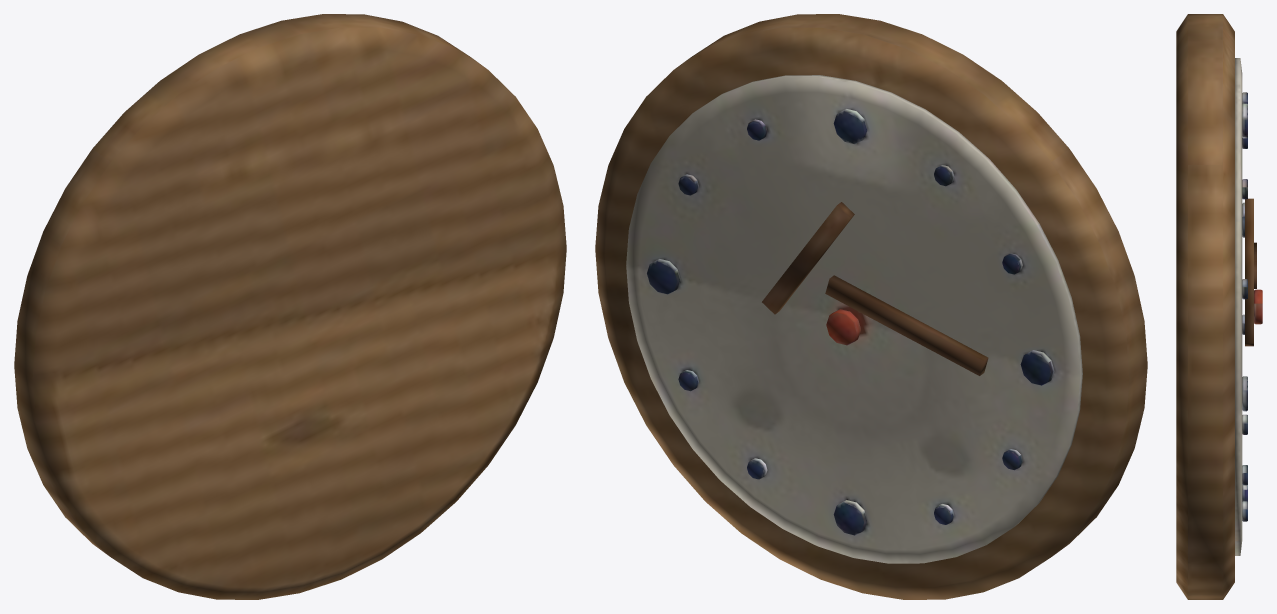
File: wall_clock.glb
3 views of the same model, side by side, from view 1: azimuth 30°, elevation 25°; view 2: azimuth 150°, elevation 25°; view 3: azimuth 270°, elevation 25° (orthographic). The views are drawn at different scales.
Visible parts, largest first — view 1: prop_wall_clock_wood; view 2: prop_wall_clock_felt, prop_wall_clock_wood; view 3: prop_wall_clock_wood, prop_wall_clock_felt.
Boxes of the visible parts, left/top/right/bottom form: prop_wall_clock_wood: left=14, top=14, right=566, bottom=599; prop_wall_clock_felt: left=626, top=75, right=1082, bottom=563; prop_wall_clock_wood: left=595, top=14, right=1147, bottom=599; prop_wall_clock_wood: left=1176, top=14, right=1256, bottom=599; prop_wall_clock_felt: left=1235, top=58, right=1262, bottom=555.
Size of the model in its own units: 0.8 by 0.8 by 0.118.
2 materials, 2 textured.
